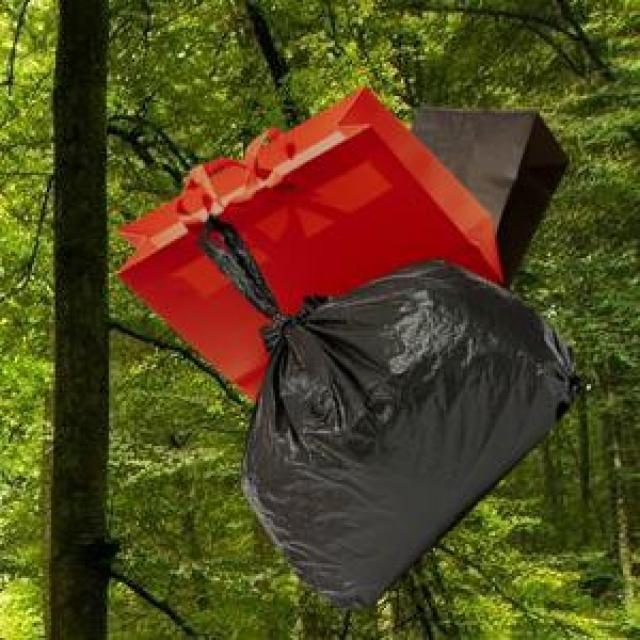miscellaneous trash: (194, 211, 578, 606)
paper: (113, 83, 499, 399), (405, 102, 565, 288)
